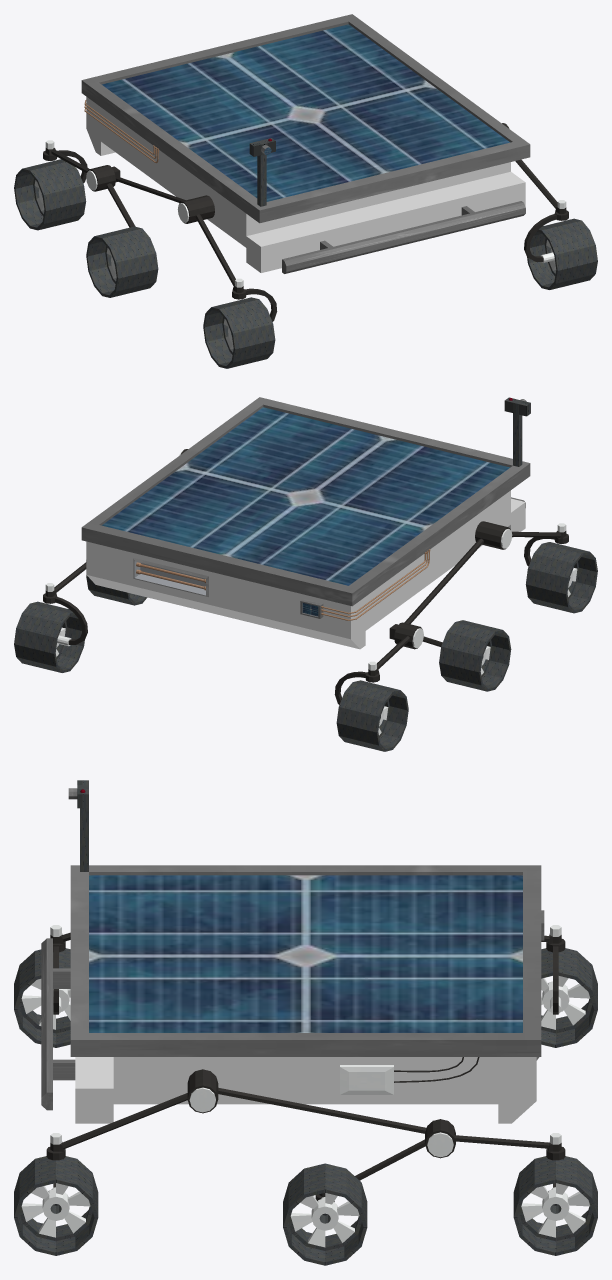
File: craft_racer.glb
The picture shows the model from 3 angles, top to bottom: view 1: azimuth 30°, elevation 25°; view 2: azimuth 150°, elevation 25°; view 3: azimuth 270°, elevation 25°; orthographic projection. The views are drawn at different scales.
Visible parts, largest first — view 1: Rover Body; view 2: Rover Body; view 3: Rover Body.
Part boxes in pixels (x1,y1,x2,y2): Rover Body: [14, 14, 597, 368]; Rover Body: [14, 397, 597, 751]; Rover Body: [14, 780, 597, 1265].
Bounding box in the file's own units: 0.7925 × 0.3966 × 0.7718.
Materials: 8 (7 with a texture image).
